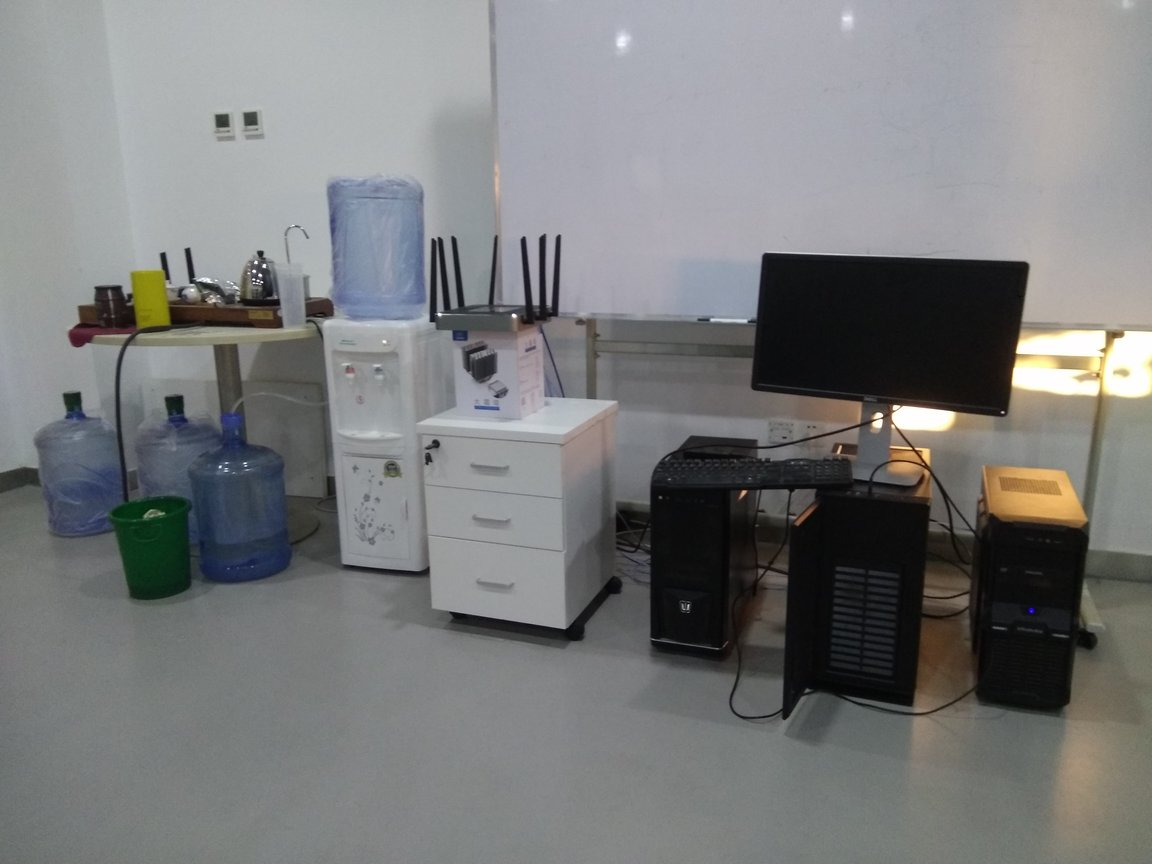computer: (789, 440, 922, 721), (978, 462, 1090, 723), (649, 429, 762, 669)
drawer chest: (425, 391, 628, 644), (319, 312, 471, 579)
monitor: (755, 248, 1026, 486)
scuttlebutt: (193, 413, 292, 580), (327, 171, 435, 324), (33, 387, 131, 543), (132, 397, 228, 551)
